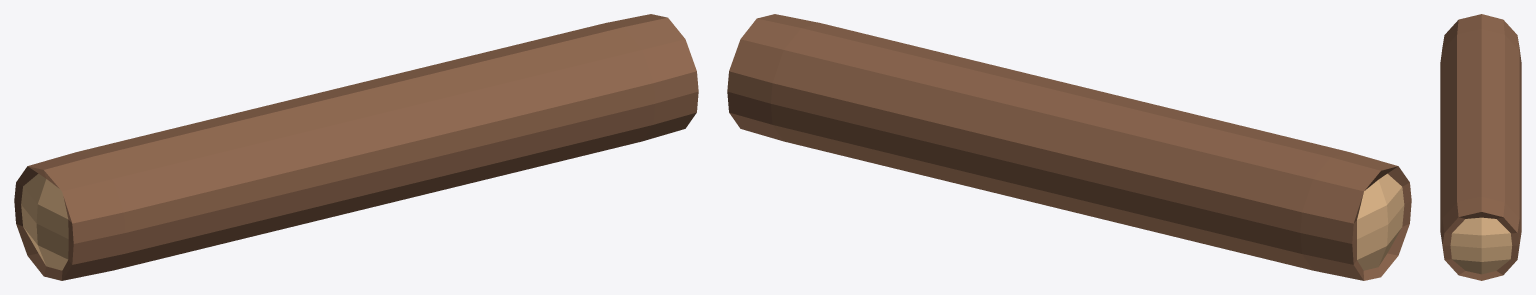
Rendered from бревно.fbx.
The picture shows the model from 3 angles, left to right: view 1: azimuth 30°, elevation 25°; view 2: azimuth 150°, elevation 25°; view 3: azimuth 270°, elevation 25°; orthographic projection. The views are drawn at different scales.
Parts seen in each view (by area): view 1: Cube; view 2: Cube; view 3: Cube.
Part boxes in pixels (x1,y1,x2,y2): Cube: [14, 14, 698, 280]; Cube: [727, 14, 1411, 280]; Cube: [1440, 14, 1521, 280].
Bounding box in the file's own units: 269 × 43.23 × 45.52.
